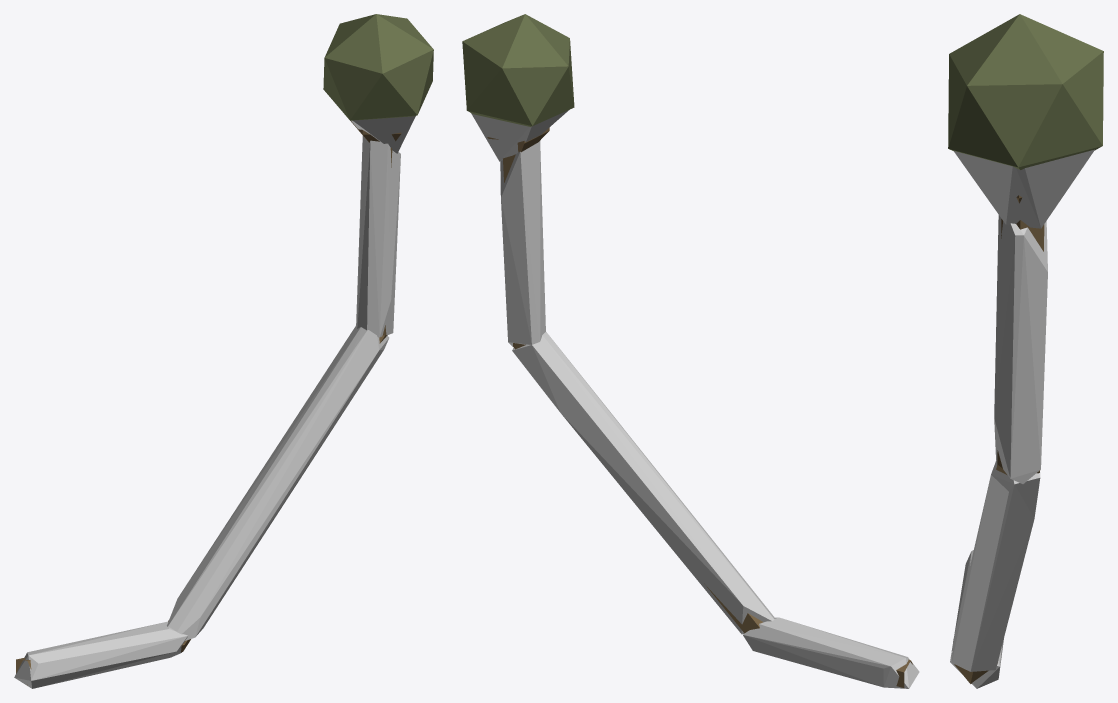
Rendered from SM_Bld_Planetarium_01_ring01_Planet_01_1.fbx.
3 views of the same model, side by side, from view 1: azimuth 30°, elevation 25°; view 2: azimuth 150°, elevation 25°; view 3: azimuth 270°, elevation 25° (orthographic). The views are drawn at different scales.
Visible parts, largest first — view 1: SM_Bld_Planetarium_01_ring01_Planet_01_1_ConvexHulls, SM_Bld_Planetarium_01_ring01_Planet_01_1; view 2: SM_Bld_Planetarium_01_ring01_Planet_01_1_ConvexHulls, SM_Bld_Planetarium_01_ring01_Planet_01_1; view 3: SM_Bld_Planetarium_01_ring01_Planet_01_1_ConvexHulls, SM_Bld_Planetarium_01_ring01_Planet_01_1.
Part boxes in pixels (<box>): SM_Bld_Planetarium_01_ring01_Planet_01_1_ConvexHulls: <box>14,116,415,688</box>; SM_Bld_Planetarium_01_ring01_Planet_01_1: <box>16,14,433,685</box>; SM_Bld_Planetarium_01_ring01_Planet_01_1_ConvexHulls: <box>471,110,919,688</box>; SM_Bld_Planetarium_01_ring01_Planet_01_1: <box>462,14,912,688</box>; SM_Bld_Planetarium_01_ring01_Planet_01_1_ConvexHulls: <box>950,149,1094,688</box>; SM_Bld_Planetarium_01_ring01_Planet_01_1: <box>948,14,1103,683</box>.
Bounding box in the file's own units: 42.22 × 9.45 × 54.95.
Materials: 2 (1 with a texture image).
